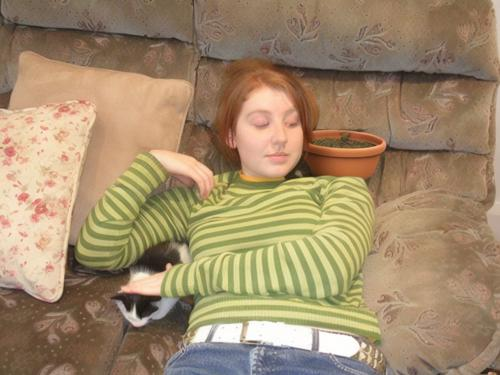cat: (115, 242, 196, 329)
person: (75, 58, 393, 375)
person/hand: (151, 151, 213, 199), (120, 262, 172, 297)
person/head: (225, 69, 305, 176)
pottedplant: (302, 128, 385, 176)
